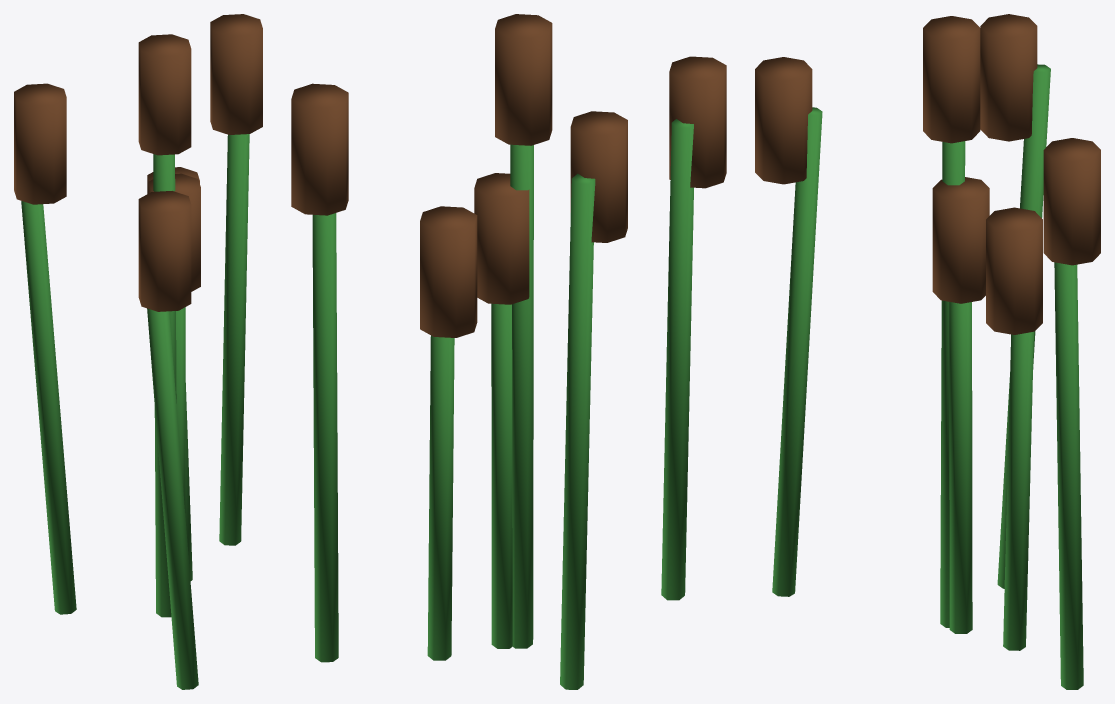
Rendered from cattail.glb.
3 renders of one model, left to right at view 1: azimuth 30°, elevation 25°; view 2: azimuth 150°, elevation 25°; view 3: azimuth 270°, elevation 25°, orthographic. The views are drawn at different scales.
Visible parts, largest first — view 1: stem3, stem4, stem5, head0, head5, head3, head4, stem0, stem1, head1, stem2; view 2: stem3, stem5, stem4, stem0, stem2, stem1, head0, head2, head4, head1, head5, head3; view 3: stem5, stem4, stem1, stem2, head0, head4, head2, head3, head5, head1, stem0, stem3.
Part boxes in pixels (x1,y1,x2,y2): stem3: (21, 201, 76, 614); stem4: (219, 134, 249, 545); stem5: (147, 308, 198, 689); head0: (138, 34, 191, 155); head5: (138, 191, 191, 311); head3: (14, 83, 66, 204); head4: (210, 14, 262, 134); stem0: (153, 154, 176, 617); stem1: (176, 307, 185, 512); head1: (148, 173, 200, 291); stem2: (185, 383, 192, 580); stem3: (560, 173, 595, 689); stem5: (661, 119, 693, 600); stem4: (312, 213, 338, 662); stem0: (510, 144, 533, 648); stem2: (427, 335, 454, 660); stem1: (491, 303, 512, 648); head0: (495, 14, 552, 145); head2: (420, 206, 477, 337); head4: (291, 83, 348, 215); head1: (474, 173, 529, 304); head5: (669, 56, 726, 188); head3: (570, 111, 627, 242); stem5: (772, 107, 822, 596); stem4: (1054, 262, 1083, 689); stem1: (949, 302, 972, 633); stem2: (1003, 331, 1033, 650); head0: (923, 16, 980, 143); head4: (1043, 138, 1100, 265); head2: (986, 207, 1042, 334); head3: (980, 14, 1037, 141); head5: (755, 57, 812, 184); head1: (932, 177, 989, 303); stem0: (940, 141, 965, 627); stem3: (997, 64, 1050, 588).
Size of the model in its own units: 0.5793 by 1.15 by 0.6056.
